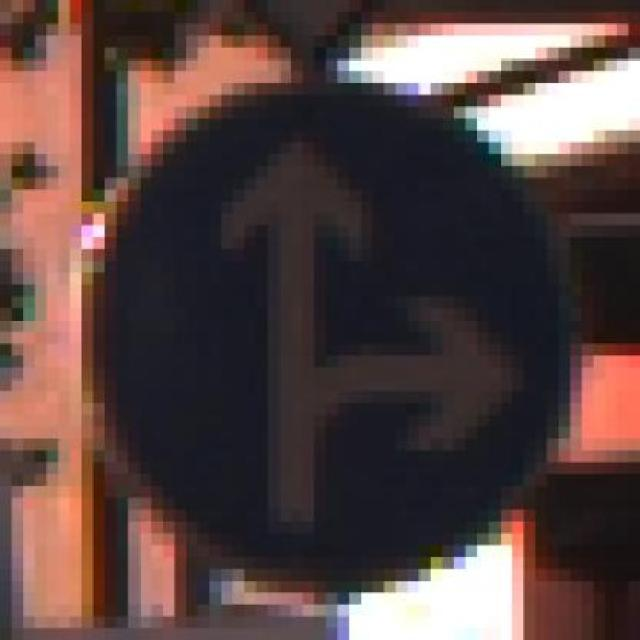Go Straight or Turn Right: (58, 71, 594, 592)
